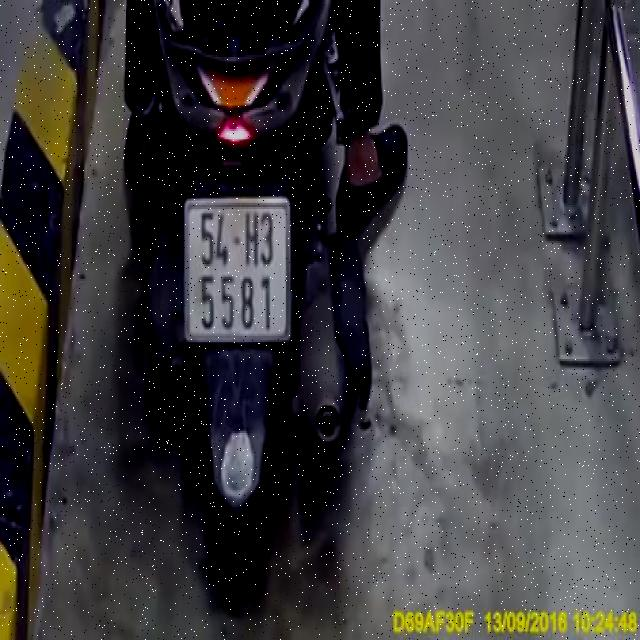1: (259, 273, 274, 329)
3: (260, 210, 277, 267)
4: (216, 210, 231, 269)
5: (194, 210, 218, 266), (196, 272, 215, 328), (219, 274, 236, 328)
8: (240, 272, 254, 331)
H: (244, 206, 258, 266)
